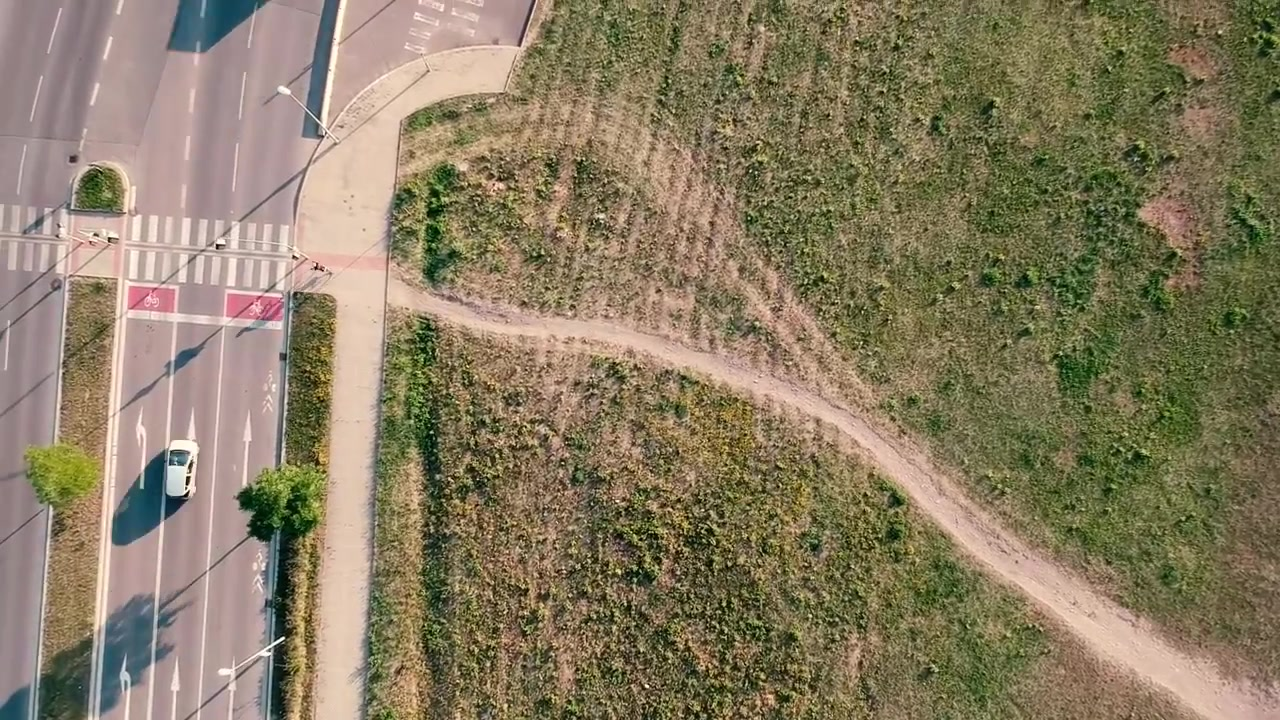car: (161, 437, 198, 500)
